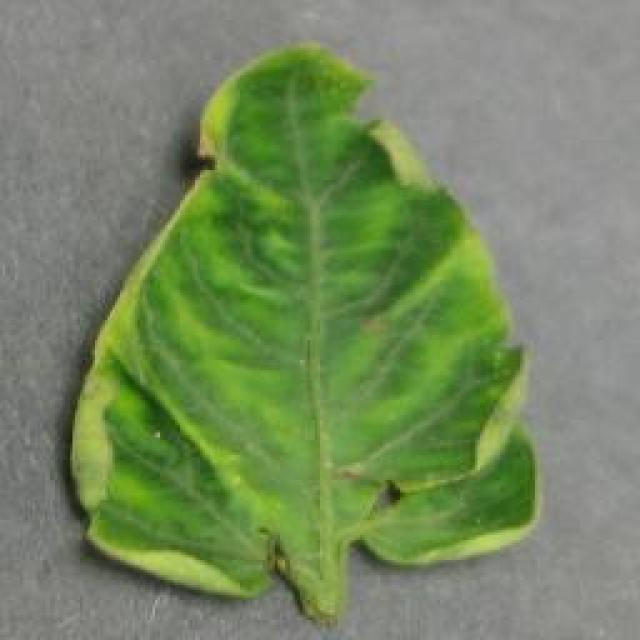Tom_Yellow_Leaf_Curl_Virus: (85, 95, 533, 586)
